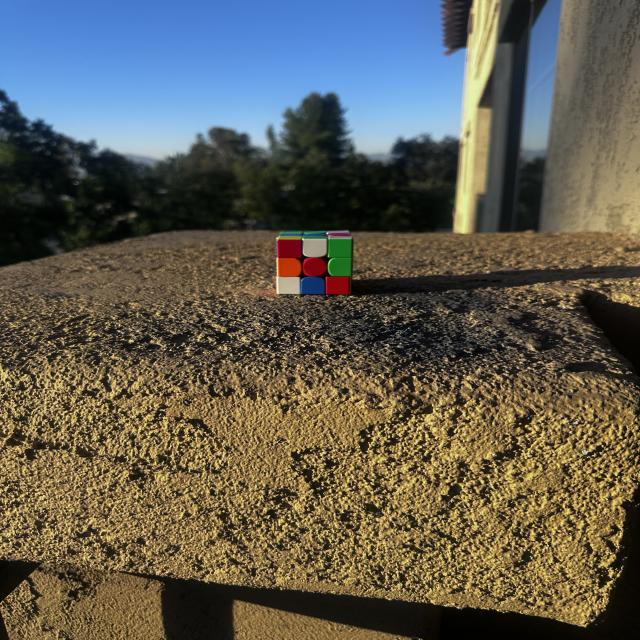sticker: (326, 257, 356, 278), (328, 237, 354, 259), (276, 239, 304, 258), (301, 239, 329, 258), (300, 276, 326, 296), (327, 276, 353, 294), (276, 258, 302, 276), (275, 277, 301, 294), (304, 258, 327, 276)
